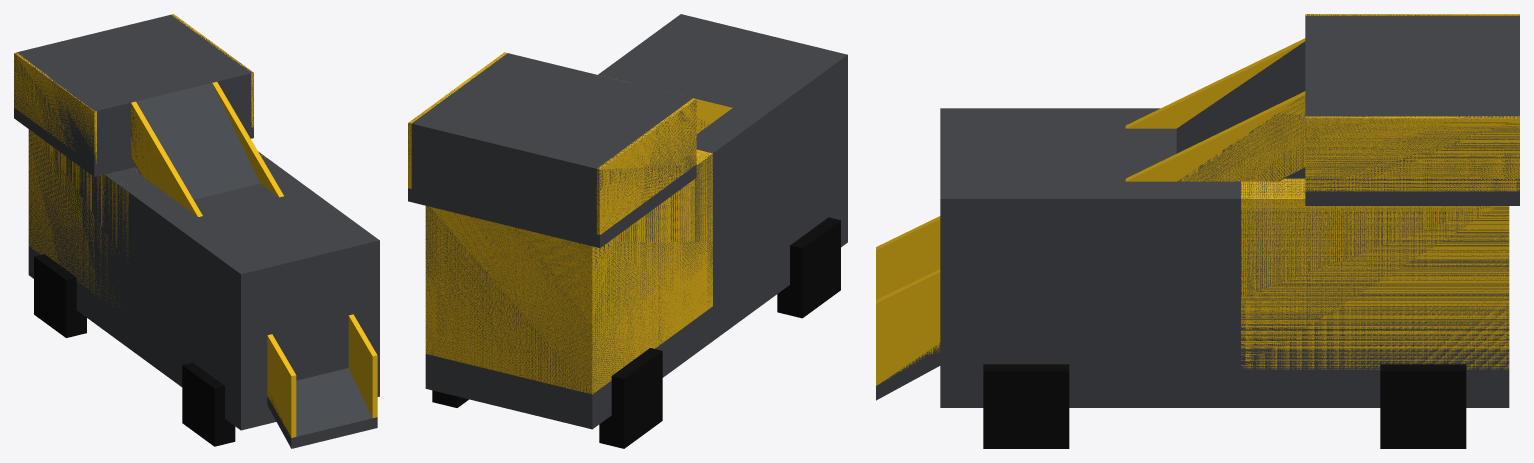
File: bne_gse_stairs_yellow.dae
3 views of the same model, side by side, from view 1: azimuth 30°, elevation 25°; view 2: azimuth 150°, elevation 25°; view 3: azimuth 270°, elevation 25° (orthographic). The views are drawn at different scales.
Visible parts, largest first — view 1: Colmesh_bne_gse_stairs_yellow-1, bne_gse_stairs_yellow160, bne_gse_stairs_yellow16; view 2: Colmesh_bne_gse_stairs_yellow-1, bne_gse_stairs_yellow160, bne_gse_stairs_yellow16; view 3: Colmesh_bne_gse_stairs_yellow-1, bne_gse_stairs_yellow160, bne_gse_stairs_yellow16.
Boxes of the visible parts, x1,y1,x2,y2 form: Colmesh_bne_gse_stairs_yellow-1: [14, 14, 379, 448]; bne_gse_stairs_yellow160: [14, 14, 377, 447]; bne_gse_stairs_yellow16: [34, 254, 235, 446]; Colmesh_bne_gse_stairs_yellow-1: [408, 14, 847, 429]; bne_gse_stairs_yellow160: [408, 52, 840, 434]; bne_gse_stairs_yellow16: [432, 217, 840, 448]; Colmesh_bne_gse_stairs_yellow-1: [876, 14, 1519, 407]; bne_gse_stairs_yellow160: [876, 14, 1519, 448]; bne_gse_stairs_yellow16: [983, 364, 1466, 448].
Bounding box in the file's own units: 2.3 × 6 × 3.4.
